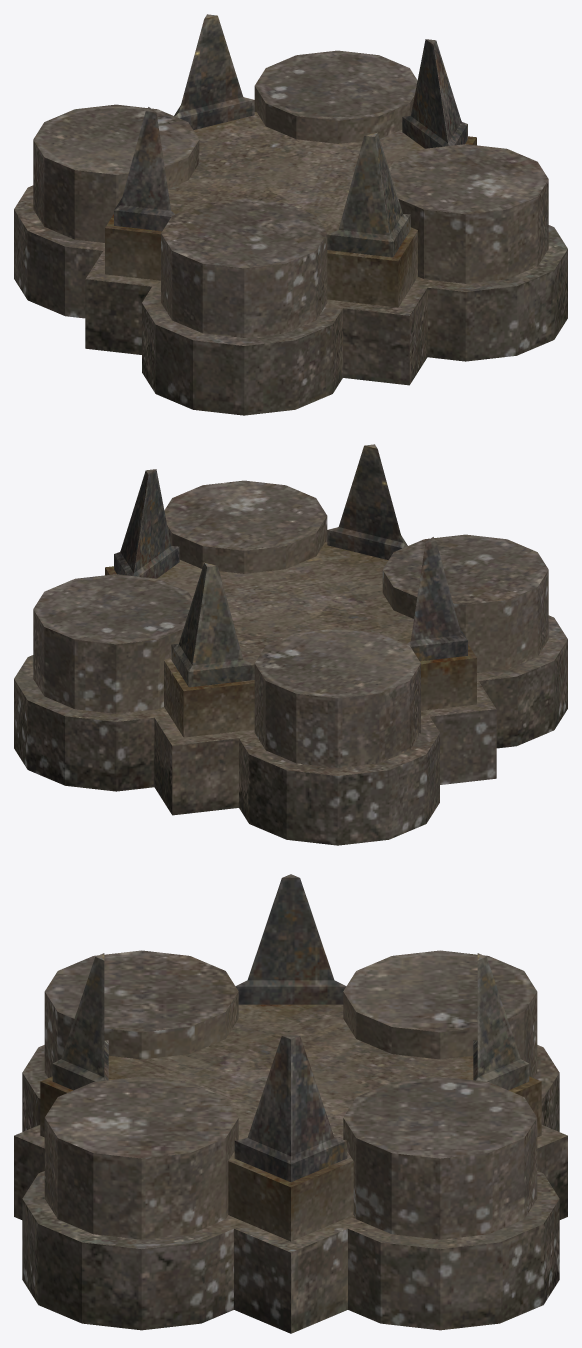
Rendered from bg_lut_lutomb_structure08_sm_old.FBX.
3 views of the same model, one above another, from view 1: azimuth 30°, elevation 25°; view 2: azimuth 150°, elevation 25°; view 3: azimuth 270°, elevation 25° (orthographic). The views are drawn at different scales.
Visible parts, largest first — view 1: bg_lut_lutomb_structure08_sm_old; view 2: bg_lut_lutomb_structure08_sm_old; view 3: bg_lut_lutomb_structure08_sm_old.
Part boxes in pixels (<box>): bg_lut_lutomb_structure08_sm_old: <box>14,14,567,415</box>; bg_lut_lutomb_structure08_sm_old: <box>14,444,567,845</box>; bg_lut_lutomb_structure08_sm_old: <box>14,874,567,1333</box>.
Size of the model in its own units: 148 by 76.9 by 148.
